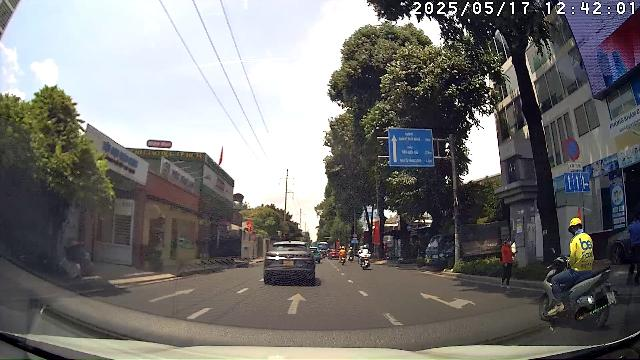131a-cam-do-xe: (564, 138, 580, 160)
